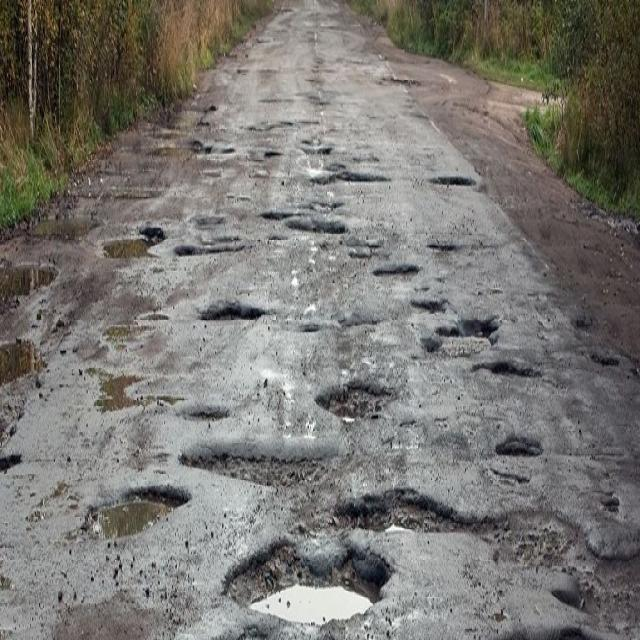Pothole: (224, 534, 396, 638), (534, 508, 640, 626), (180, 432, 335, 496), (335, 476, 465, 552), (84, 480, 192, 540), (316, 379, 386, 426), (201, 289, 266, 335), (440, 308, 505, 348), (498, 432, 543, 468), (286, 213, 348, 239), (102, 233, 152, 264), (188, 136, 236, 166), (332, 167, 395, 187), (182, 400, 226, 428), (409, 292, 448, 322), (436, 166, 476, 193), (592, 344, 622, 374), (376, 266, 418, 286), (420, 326, 442, 359), (428, 236, 456, 258), (261, 205, 290, 222), (177, 241, 200, 260), (317, 139, 333, 159), (576, 314, 594, 331), (267, 148, 280, 164)
